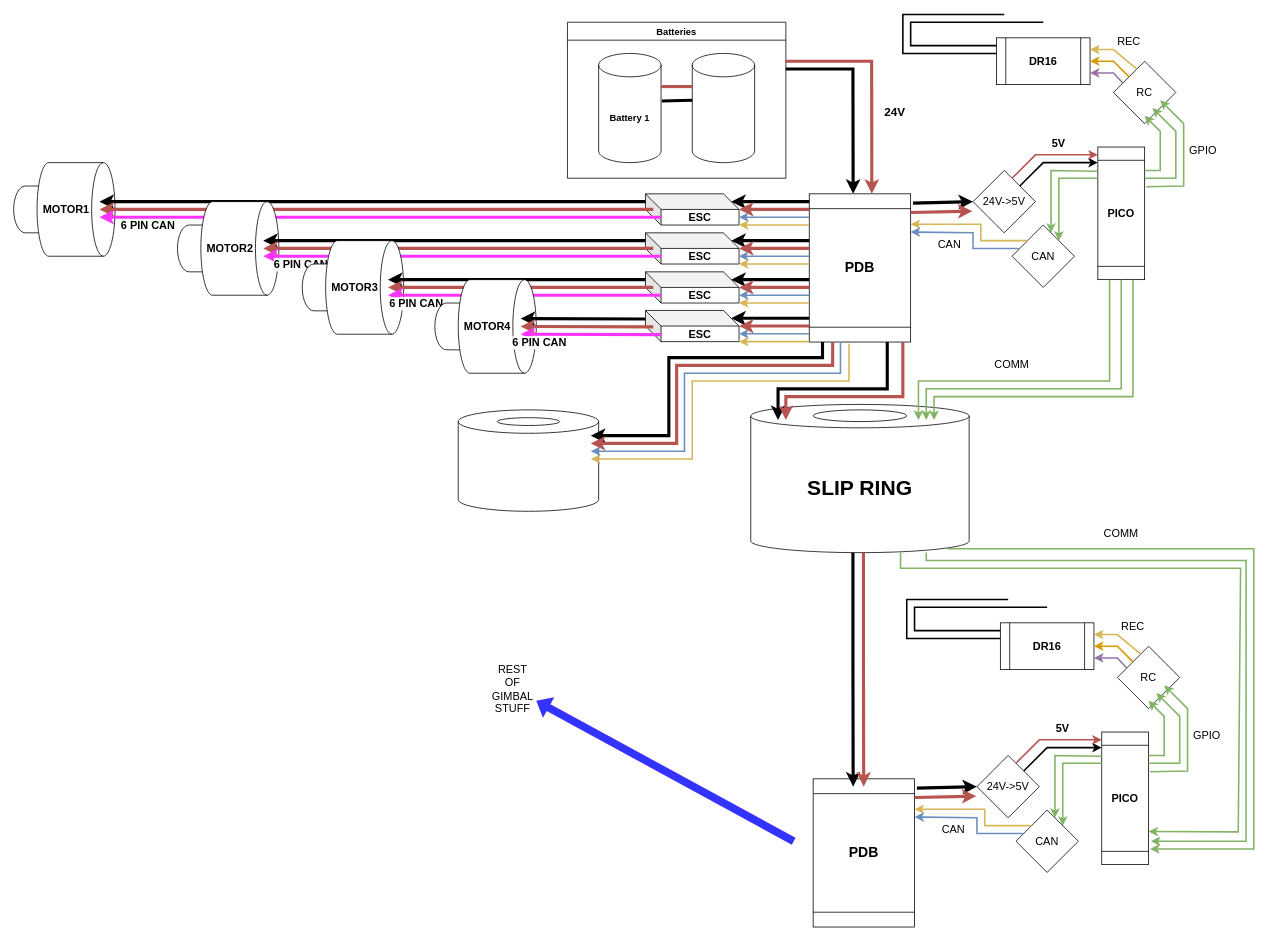
Some shapes in this 1275 by 941 pixel diagram are drawn without their labels. The shapes that lost their labels are listed below. From the top down, each one's centre as x and y in pixels, then its label:
At (723,108): "Battery 2".
At (528,460): "HORIZONTAL GIMBAL MOTOR".
